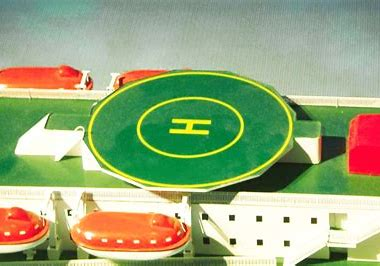H: (168, 119, 210, 137)
